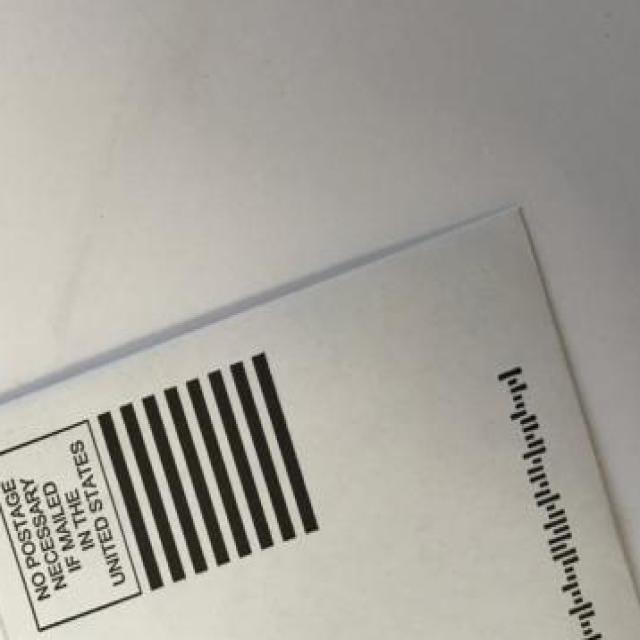organic: (5, 188, 621, 583)
